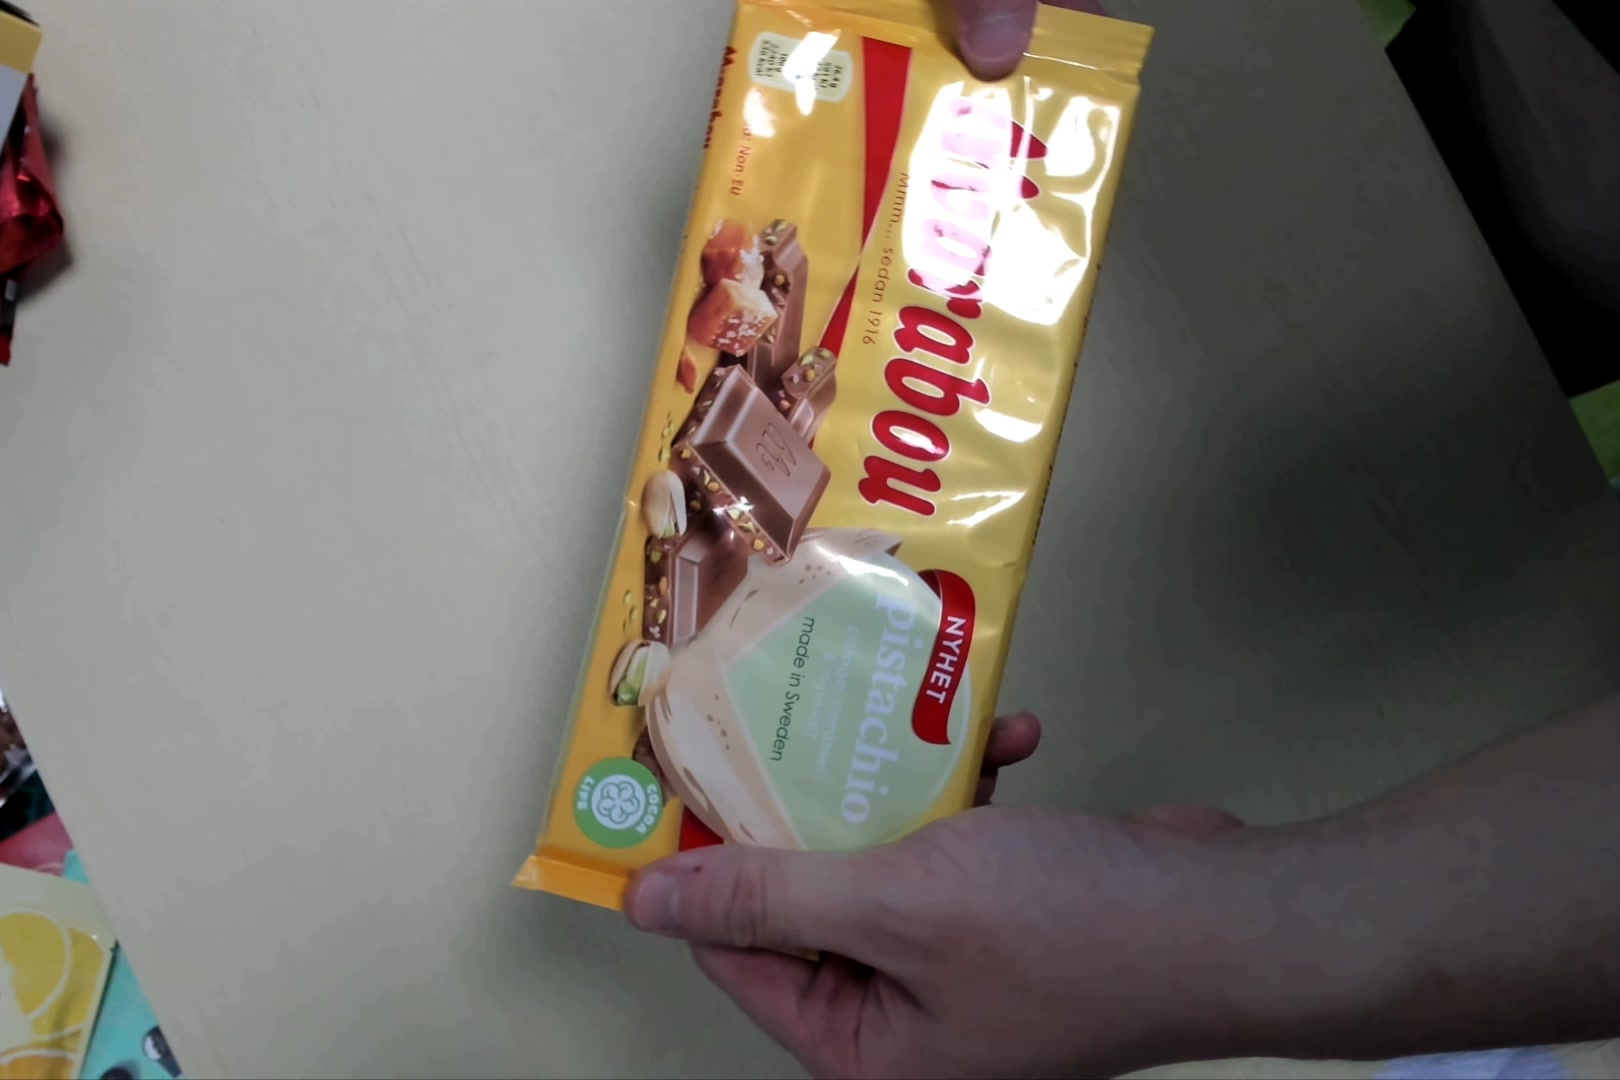SweetsChocolatesOthers_100-199g_NonHalal_NonHealthy: (524, 19, 1155, 929)
